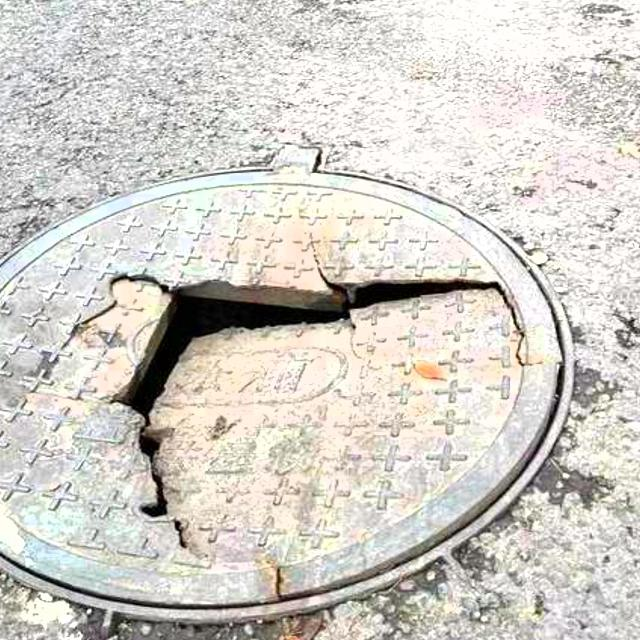broke: (0, 148, 591, 637)
